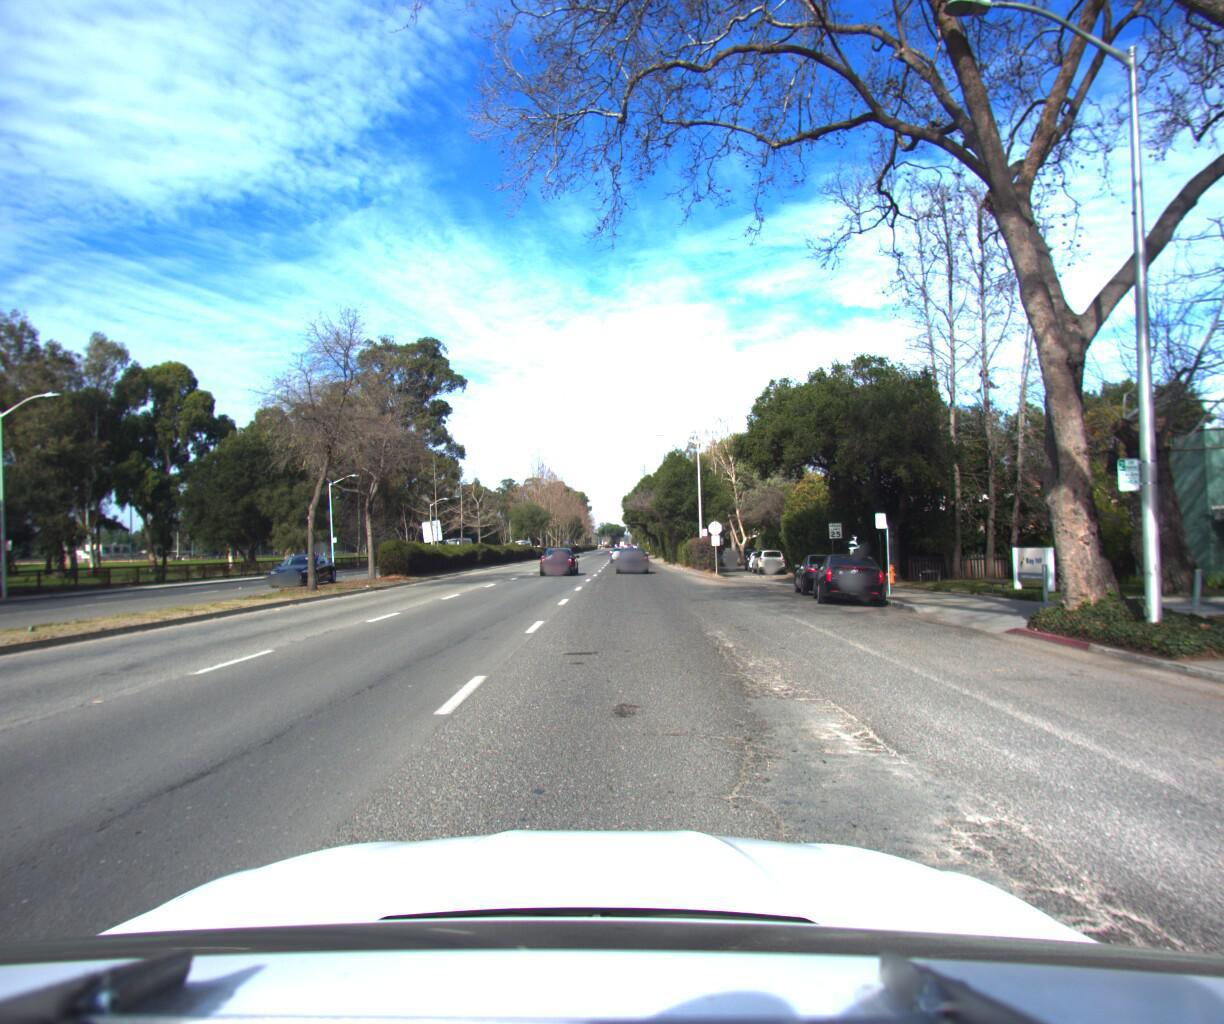car: (811, 543, 895, 603), (791, 542, 864, 591), (266, 544, 343, 581), (539, 539, 580, 569), (747, 540, 789, 567), (614, 536, 647, 565), (721, 541, 746, 558)
